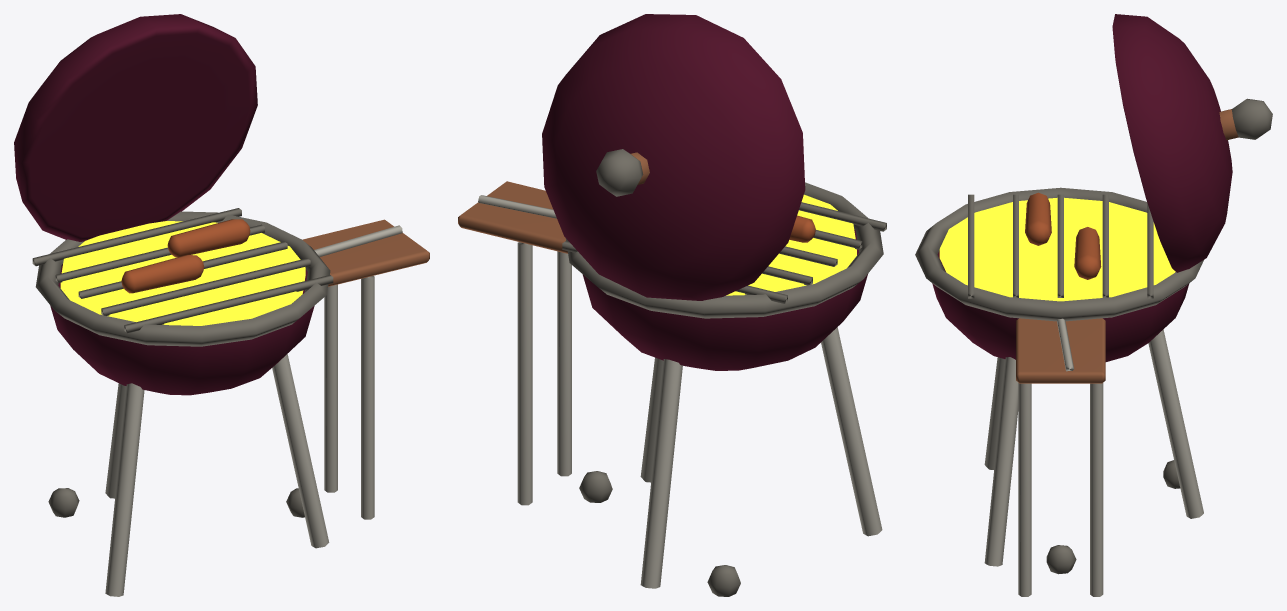
The model's file is grill.glb.
3 renders of one model, left to right at view 1: azimuth 30°, elevation 25°; view 2: azimuth 150°, elevation 25°; view 3: azimuth 270°, elevation 25°, orthographic. The views are drawn at different scales.
Visible parts, largest first — view 1: Grill.001; view 2: Grill.001; view 3: Grill.001.
Boxes of the visible parts, box(x1,y1,x2,y2) form: Grill.001: box(14, 14, 429, 596); Grill.001: box(458, 14, 886, 596); Grill.001: box(915, 14, 1272, 596).
Bounding box in the file's own units: 0.895 × 1.21 × 0.7978.
